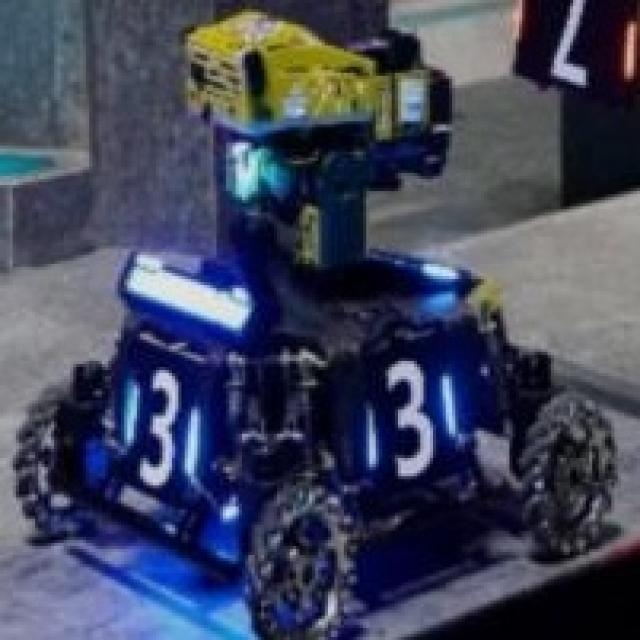B3: (354, 358, 456, 476), (118, 370, 197, 482)
